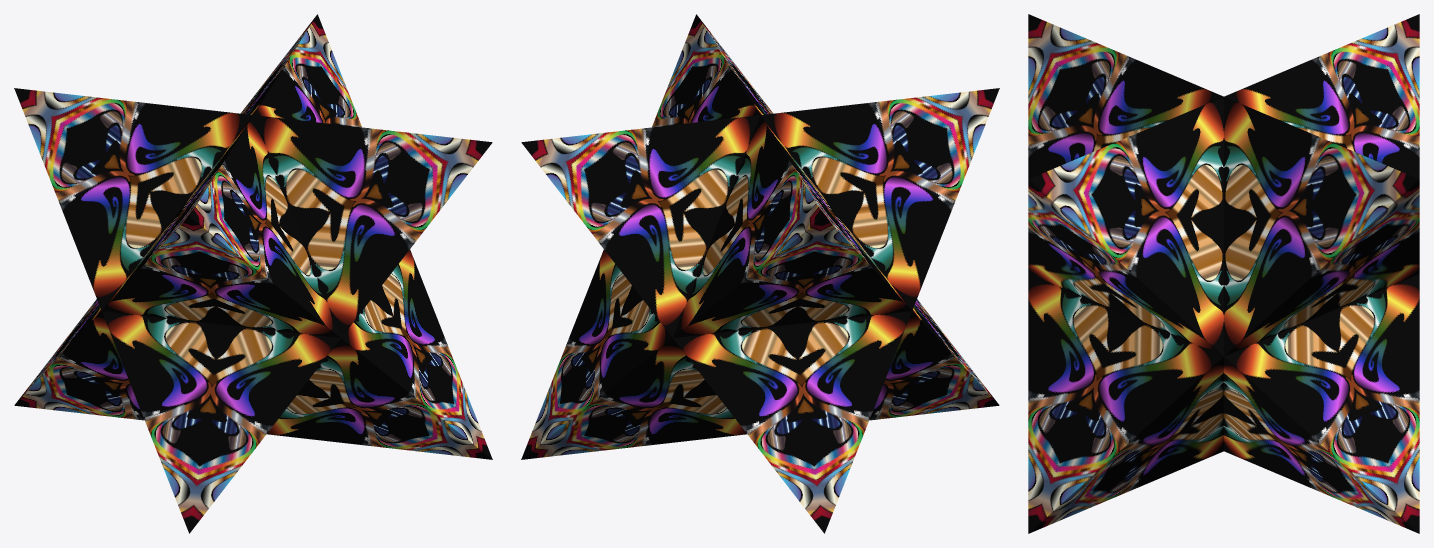
File: StellaOctangula12.obj
The picture shows the model from 3 angles, left to right: view 1: azimuth 30°, elevation 25°; view 2: azimuth 150°, elevation 25°; view 3: azimuth 270°, elevation 25°; orthographic projection. The views are drawn at different scales.
Bounding box in the file's own units: 0.7071 × 0.7071 × 0.7071.
Materials: 1 (1 with a texture image).
